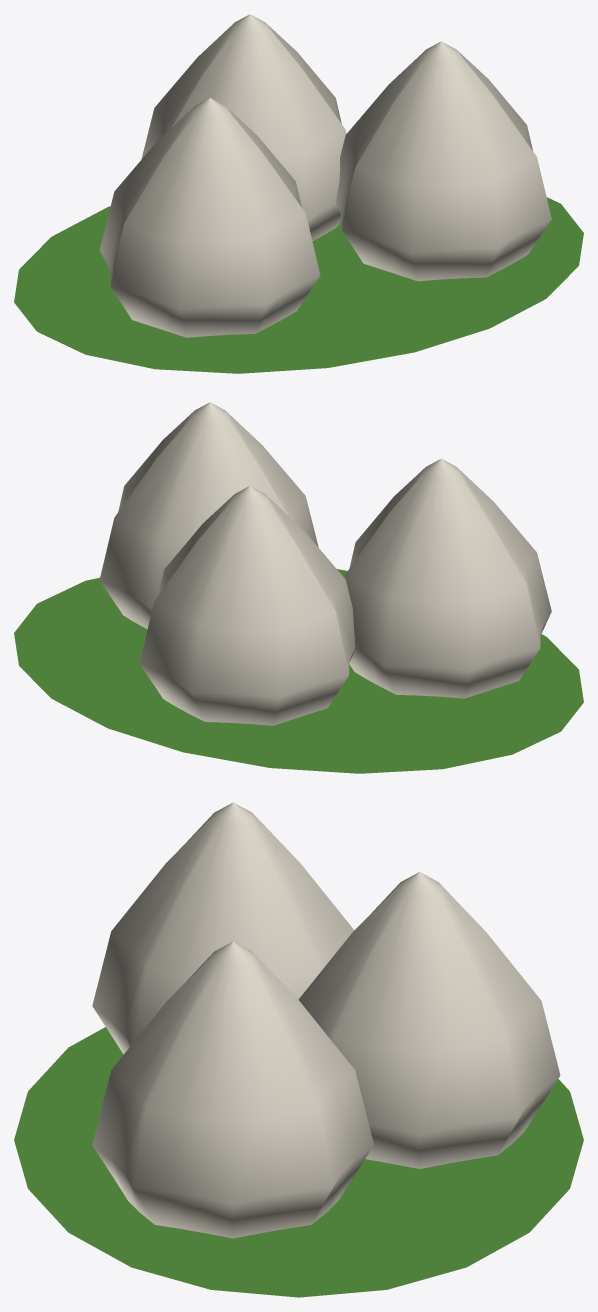
File: modak.glb
The picture shows the model from 3 angles, top to bottom: view 1: azimuth 30°, elevation 25°; view 2: azimuth 150°, elevation 25°; view 3: azimuth 270°, elevation 25°; orthographic projection. The views are drawn at different scales.
Parts seen in each view (by area): view 1: modak; view 2: modak; view 3: modak.
Boxes of the visible parts, box(x1,y1,x2,y2) form: modak: box(14, 14, 583, 373); modak: box(14, 402, 583, 773); modak: box(14, 802, 583, 1297).
Bounding box in the file's own units: 0.136 × 0.054 × 0.104.
